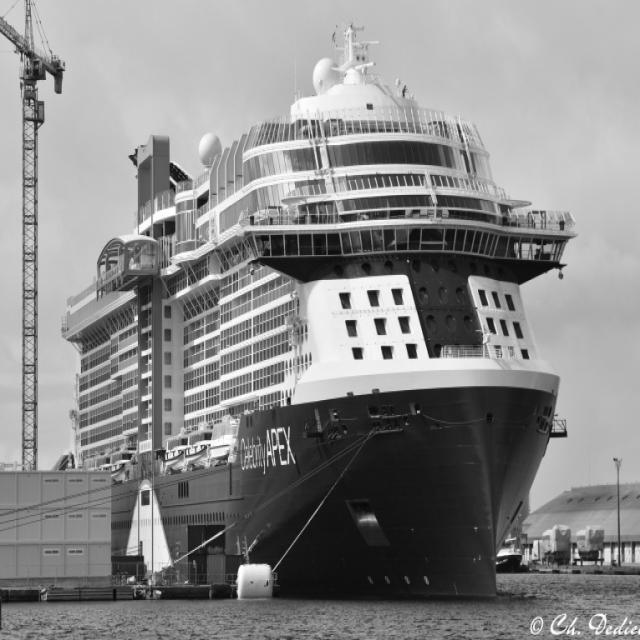cruises: (61, 20, 582, 619)
